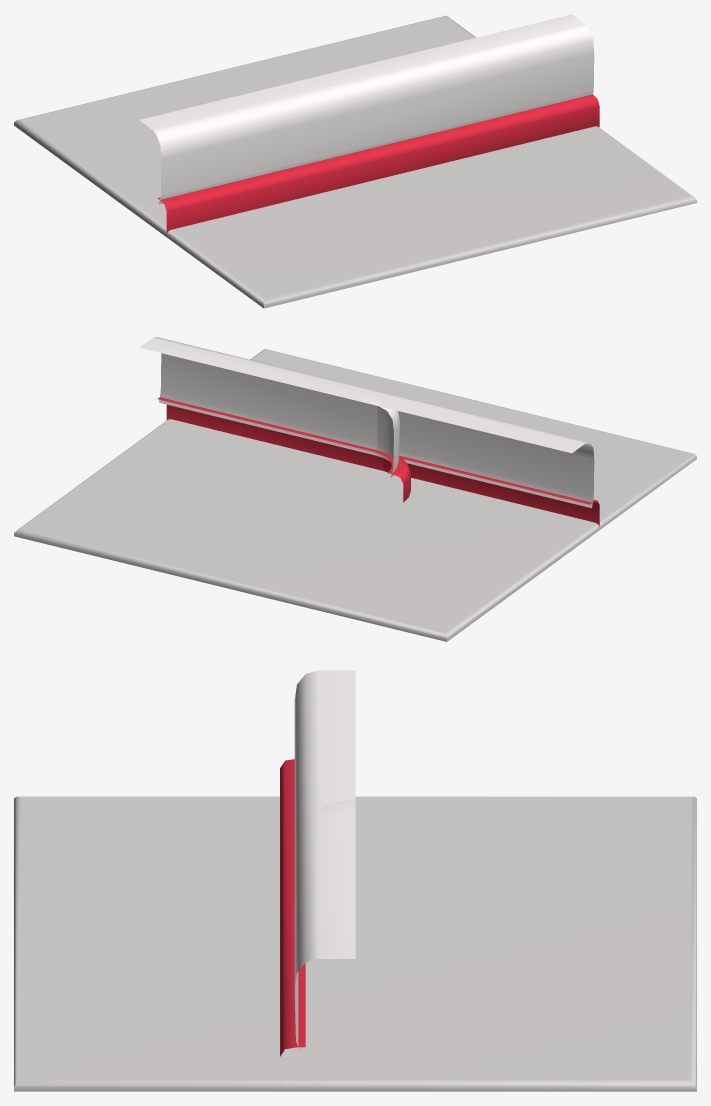
The model's file is Hub_Ground.fbx.
3 views of the same model, one above another, from view 1: azimuth 30°, elevation 25°; view 2: azimuth 150°, elevation 25°; view 3: azimuth 270°, elevation 25° (orthographic). The views are drawn at different scales.
Visible parts, largest first — view 1: Ground_Tile, Ground_Kerb, Ground_KerbBand; view 2: Ground_Tile, Ground_Kerb, Ground_KerbBand, Ground_KerbCorner, Ground_KerbCornerBand; view 3: Ground_Tile, Ground_Kerb, Ground_KerbBand.
Part boxes in pixels (x1,y1,x2,y2): Ground_Tile: (14,15,696,308); Ground_Kerb: (139,14,594,203); Ground_KerbBand: (157,94,599,233); Ground_Tile: (14,349,696,641); Ground_Kerb: (139,337,594,508); Ground_KerbBand: (157,397,599,526); Ground_KerbCorner: (356,392,399,477); Ground_KerbCornerBand: (374,451,410,502); Ground_Tile: (14,796,696,1091); Ground_Kerb: (294,670,355,1053); Ground_KerbBand: (280,759,305,1085).
Bounding box in the file's own units: 14 × 3 × 14.
